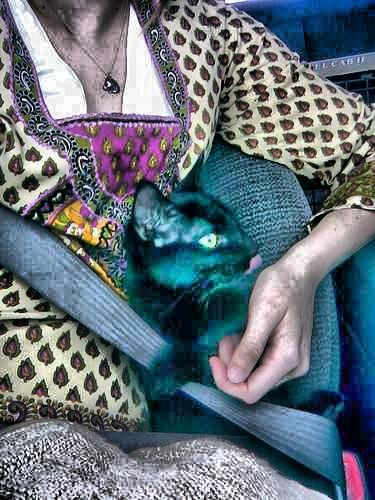seatbelt: (16, 217, 370, 476)
